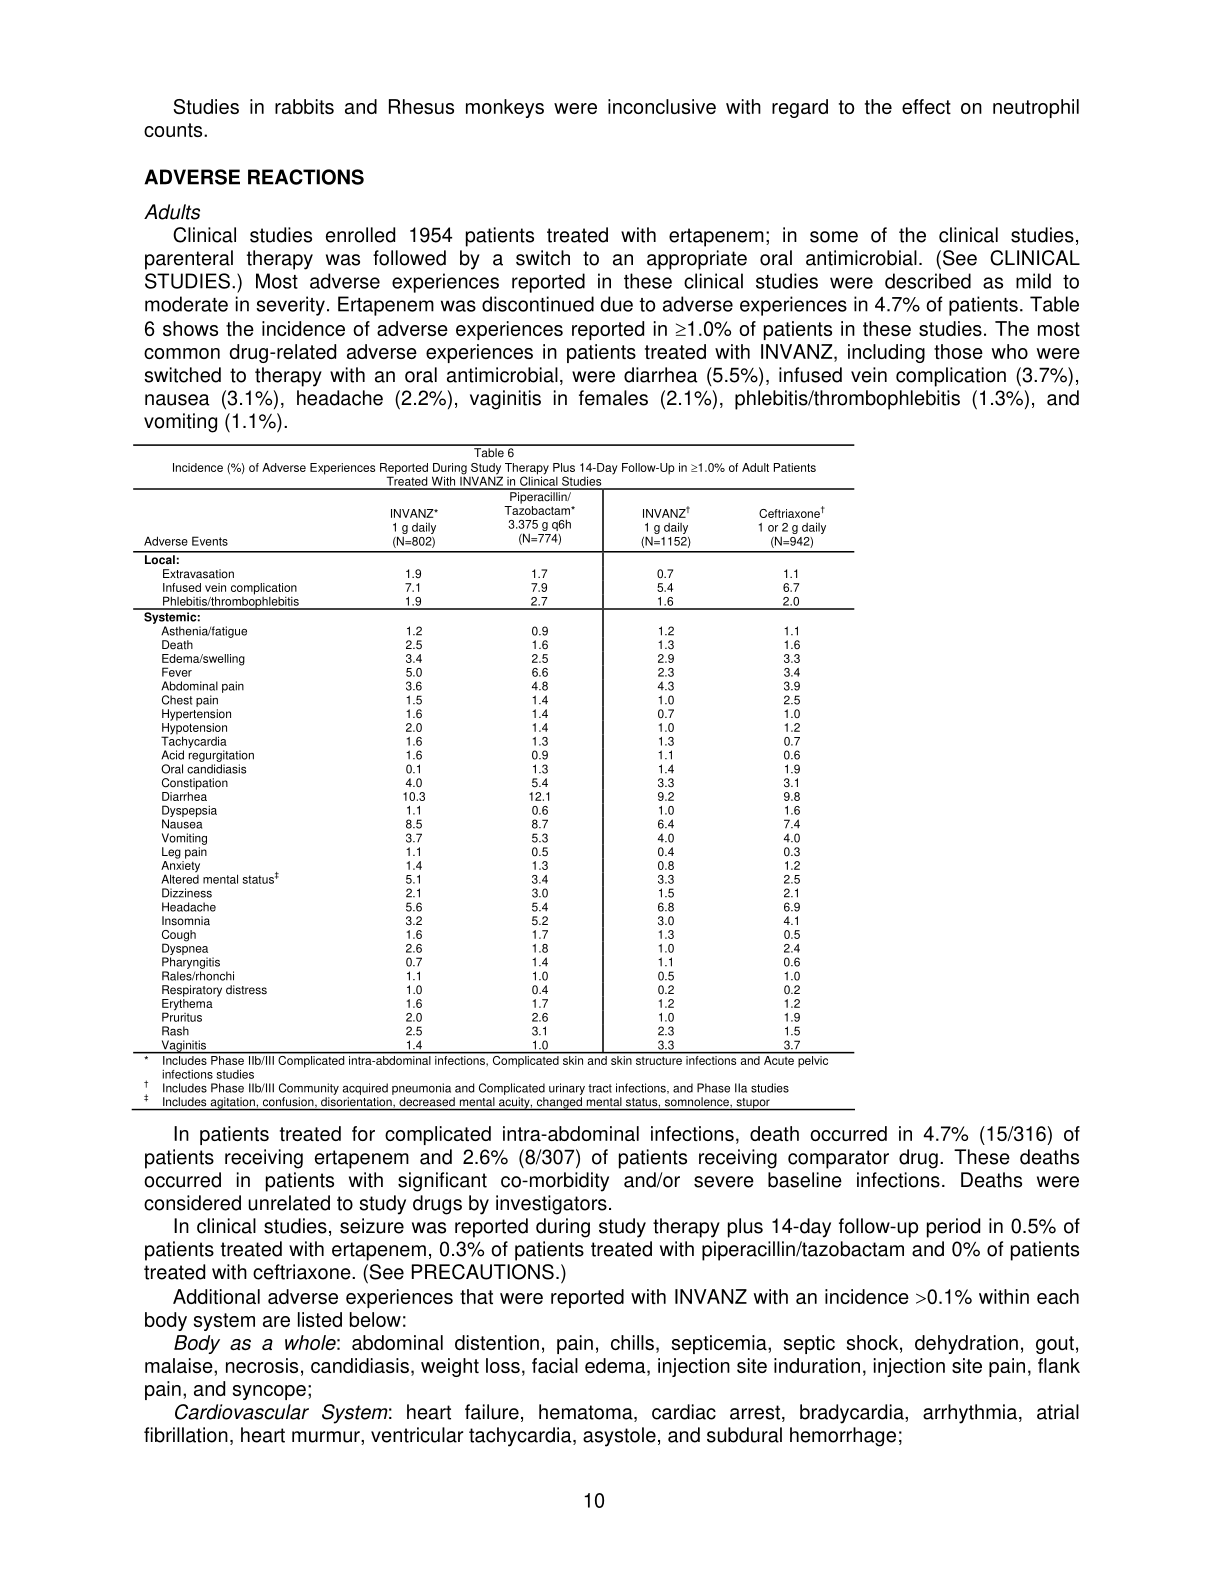partial_lined_merged_cells: (131, 444, 856, 1056)
